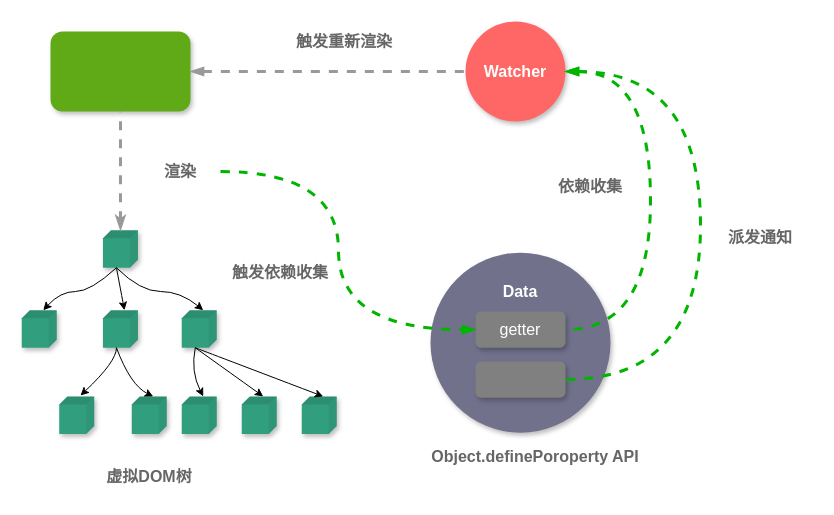
The diagram is 834 pixels wide and 515 high, and some of its shapes have lost their labels. The shapes that lost their labels are listed below. From the top down, each one's centre as x and y in pixels, then its label:
At (x=121, y=72): "Component Render Function".
At (x=521, y=380): "setter".
